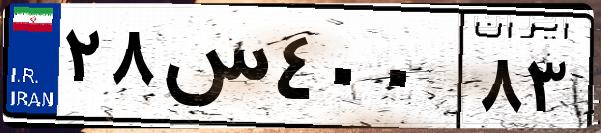0: (385, 28, 445, 110), (330, 28, 385, 110)
2: (57, 26, 110, 100)
3: (525, 38, 570, 115)
4: (270, 28, 330, 110)
8: (475, 38, 525, 113), (110, 28, 158, 98)
س: (158, 20, 270, 120)
